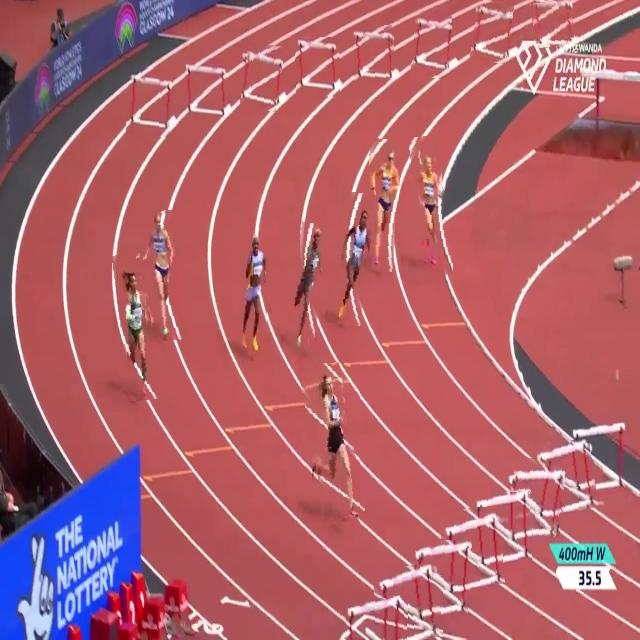athlete: (305, 364, 360, 526), (329, 191, 373, 326), (139, 211, 184, 341), (117, 252, 155, 400), (412, 135, 449, 277), (362, 139, 401, 271), (288, 222, 328, 349), (239, 231, 268, 345)
hurdle: (374, 564, 442, 640), (440, 507, 504, 587), (507, 458, 565, 541), (537, 440, 596, 513), (571, 415, 625, 493), (476, 492, 532, 567), (416, 539, 471, 612), (127, 68, 172, 136), (341, 596, 408, 640), (241, 43, 282, 111), (186, 58, 228, 124), (352, 26, 396, 88), (296, 38, 340, 98), (412, 14, 451, 78), (472, 1, 512, 63), (531, 0, 574, 47)
